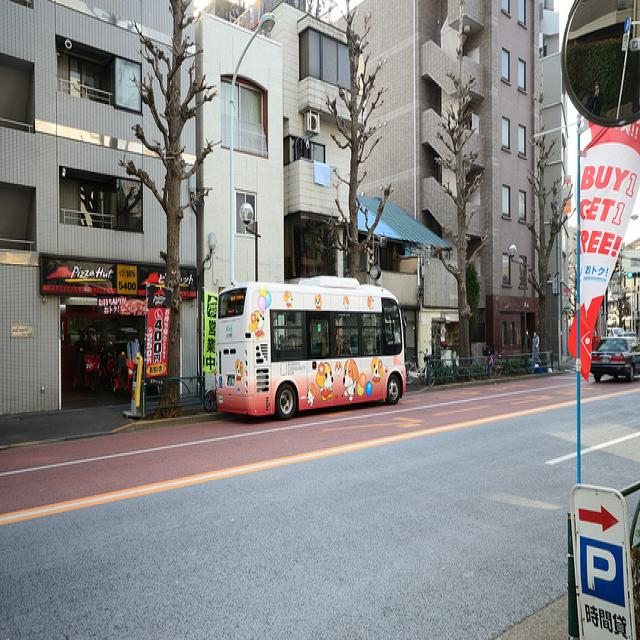Vehicle: (214, 275, 409, 420), (590, 337, 640, 382), (606, 328, 626, 338), (618, 332, 638, 338)
